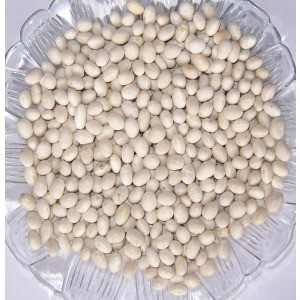beans_brain food: (66, 93, 255, 210)
